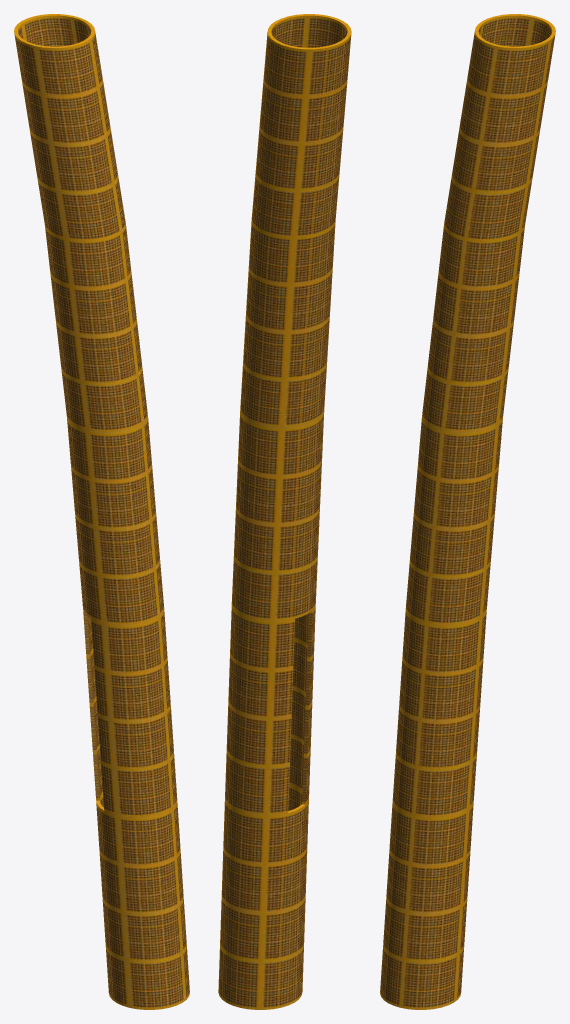
Rendered from ringStraight.fbx.
3 renders of one model, left to right at view 1: azimuth 90°, elevation 25°; view 2: azimuth 210°, elevation 25°; view 3: azimuth 270°, elevation 25°, orthographic. The views are drawn at different scales.
Visible parts, largest first — view 1: ringStraight; view 2: ringStraight; view 3: ringStraight.
Part boxes in pixels (left/top/right/bottom): ringStraight: left=14, top=14, right=189, bottom=1009; ringStraight: left=218, top=14, right=351, bottom=1009; ringStraight: left=380, top=14, right=555, bottom=1009.
Size of the model in its own units: 54.75 by 719 by 119.
Materials: 1 (1 with a texture image).
